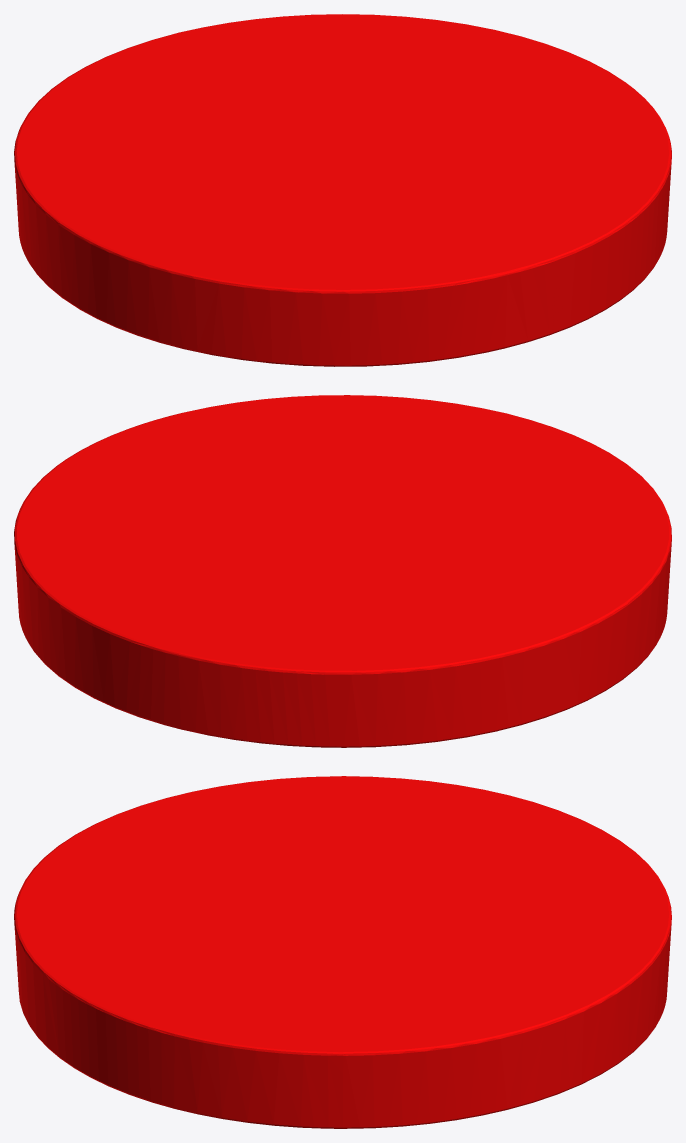
3 renders of one model, top to bottom at view 1: azimuth 30°, elevation 25°; view 2: azimuth 150°, elevation 25°; view 3: azimuth 270°, elevation 25°, orthographic.
Visible parts, largest first — view 1: A0912_3_1; view 2: A0912_3_1; view 3: A0912_3_1.
Part boxes in pixels (left/top/right/bottom): A0912_3_1: left=14, top=14, right=671, bottom=366; A0912_3_1: left=14, top=395, right=671, bottom=747; A0912_3_1: left=14, top=776, right=671, bottom=1128.
Size of the model in its own units: 117 by 117 by 15.5.
